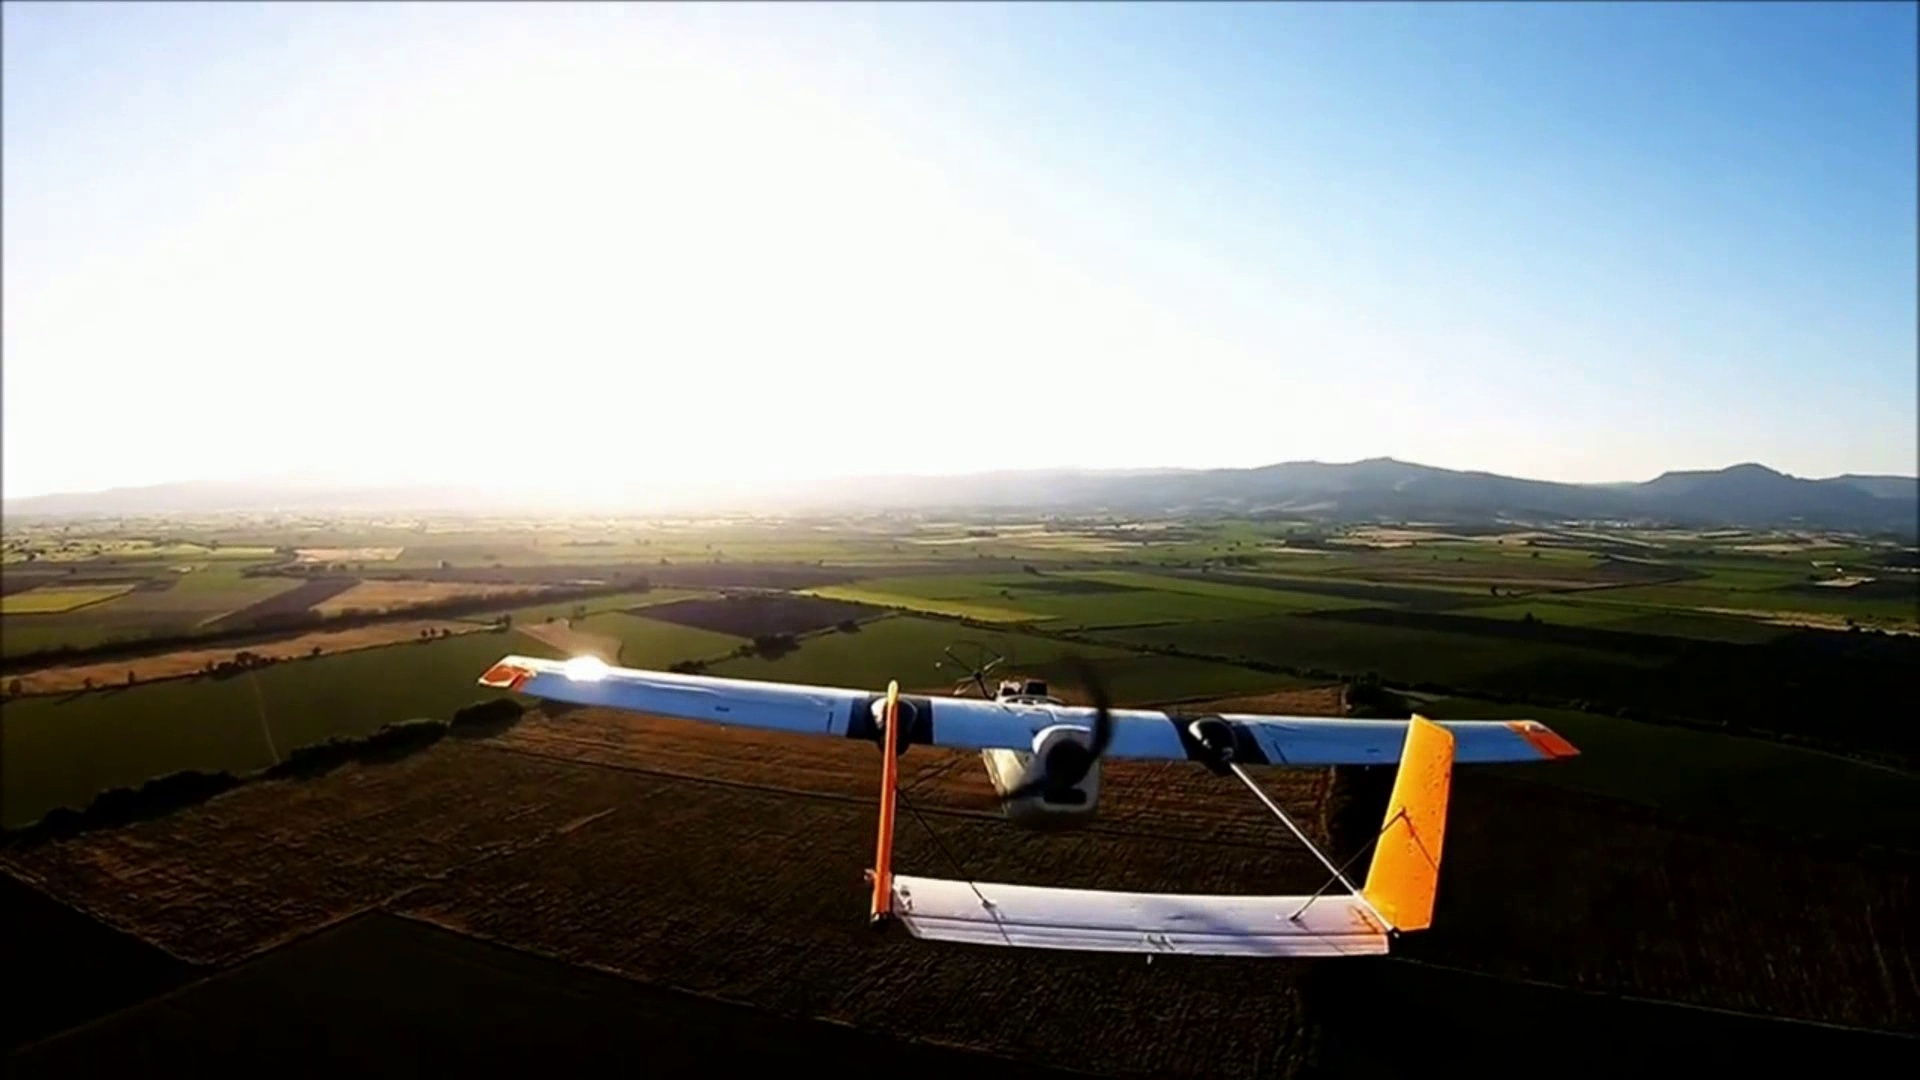airplane: (475, 649, 1578, 958)
